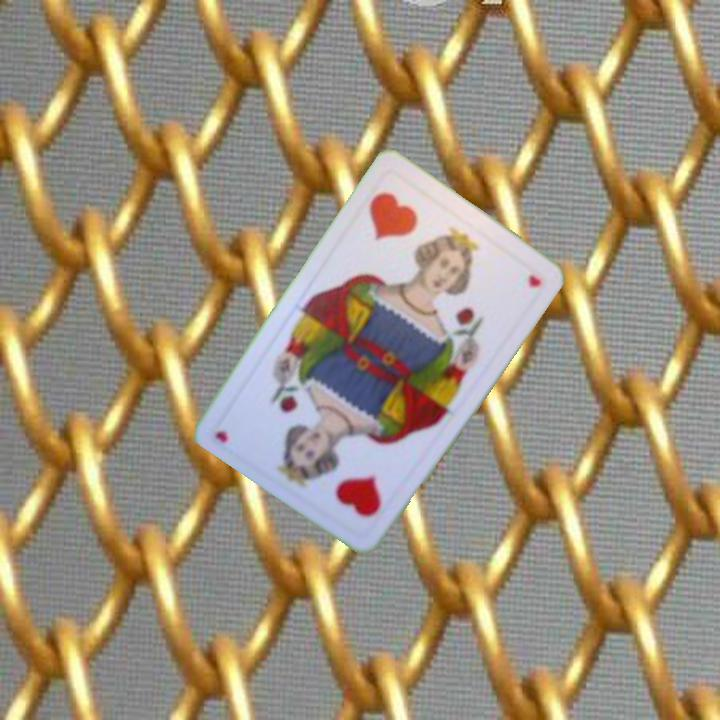h_q.png: (342, 167, 471, 292), (287, 415, 415, 540)
